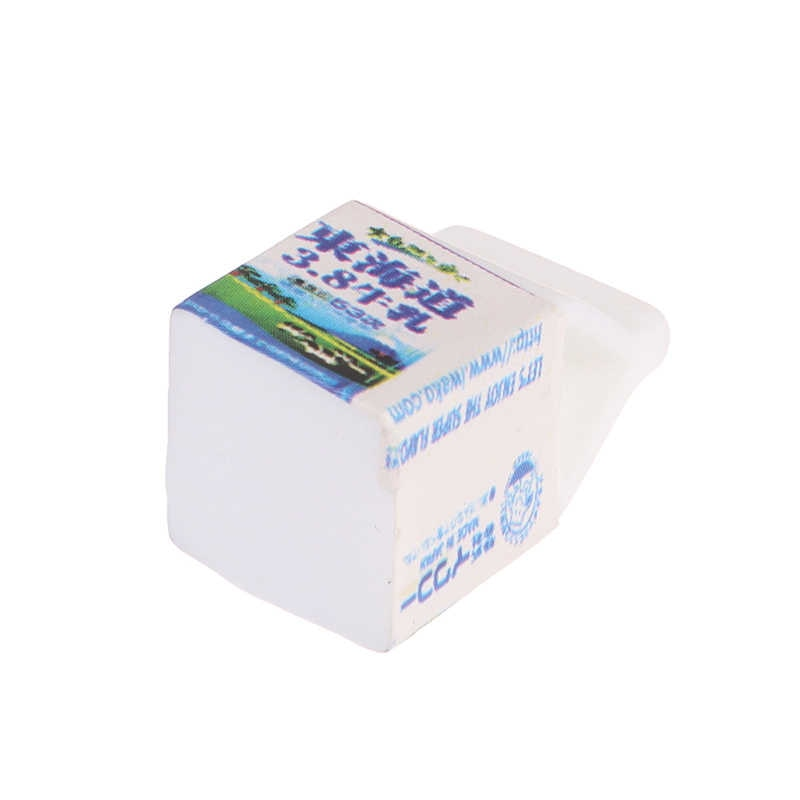carton: (127, 133, 698, 693)
